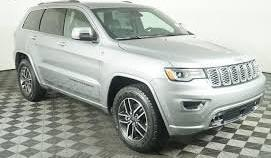SUV: (17, 4, 266, 152)
